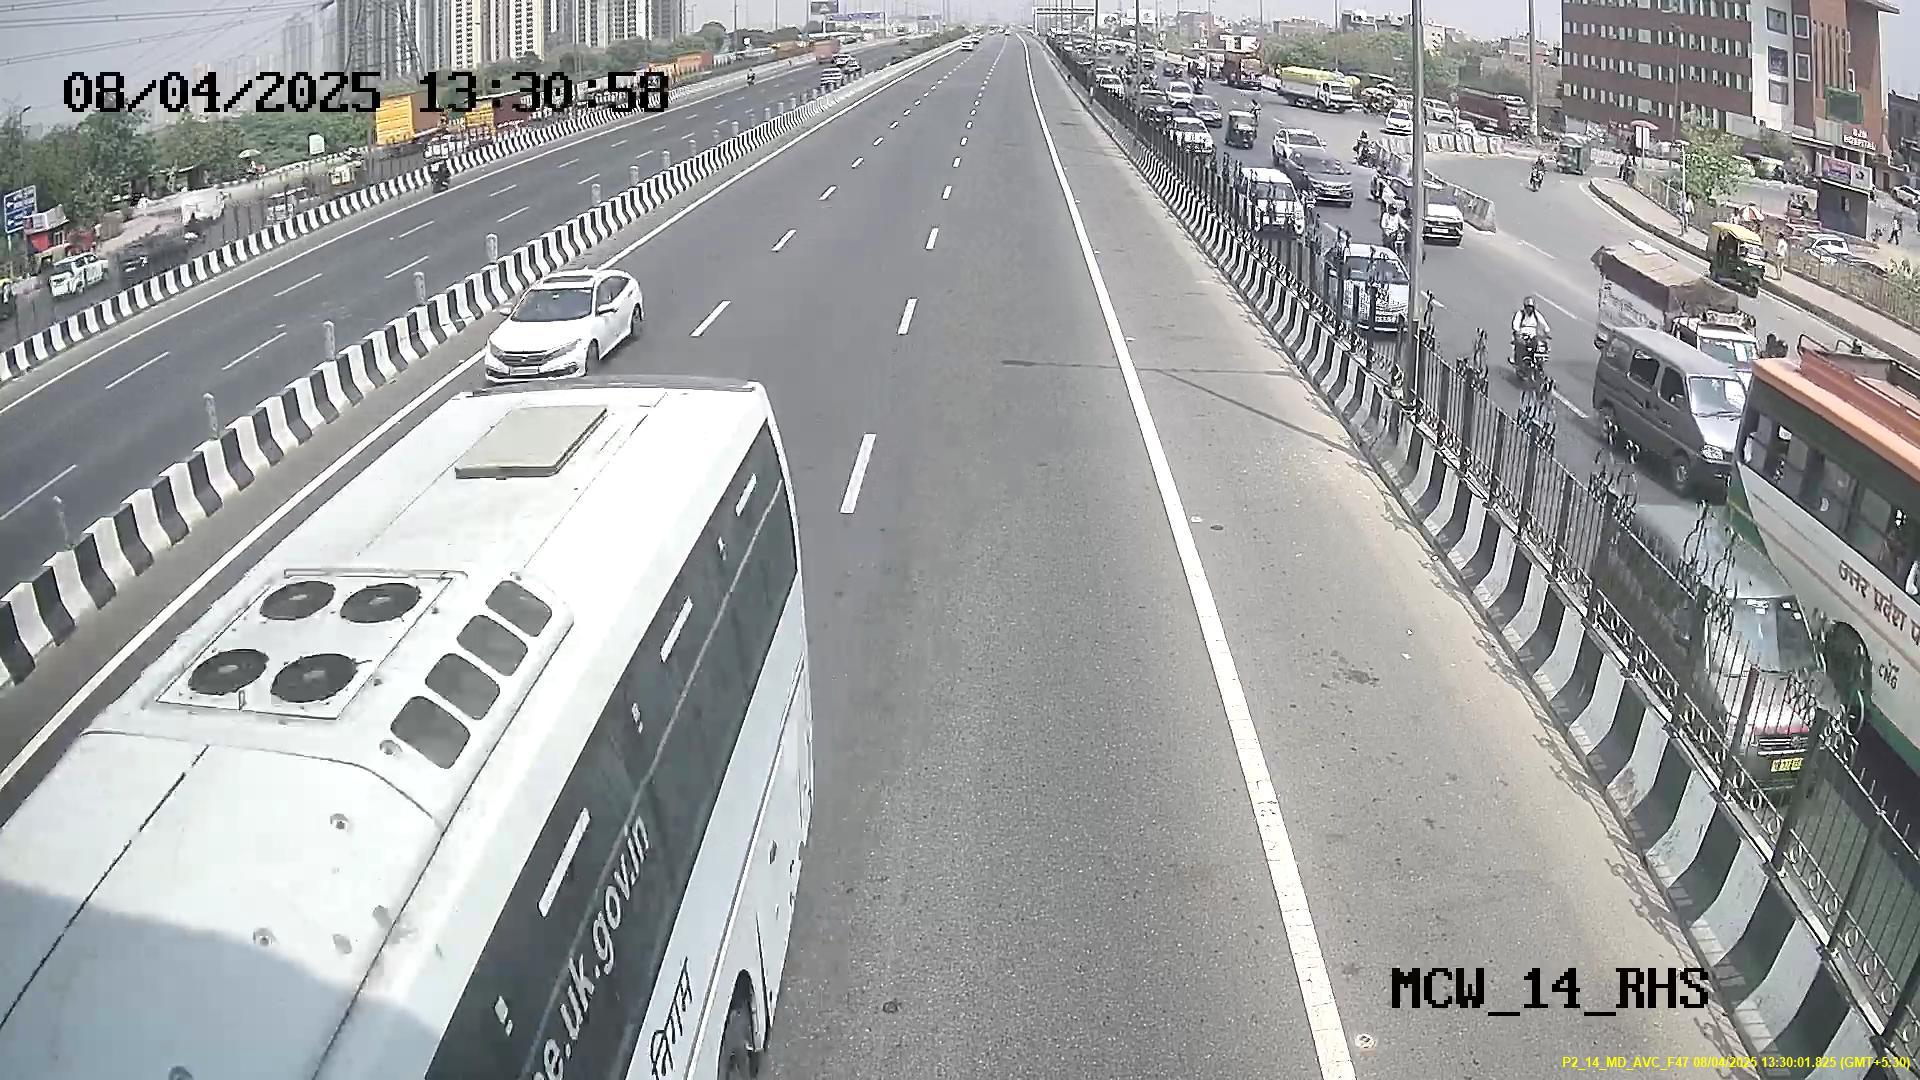car: (480, 272, 624, 382)
